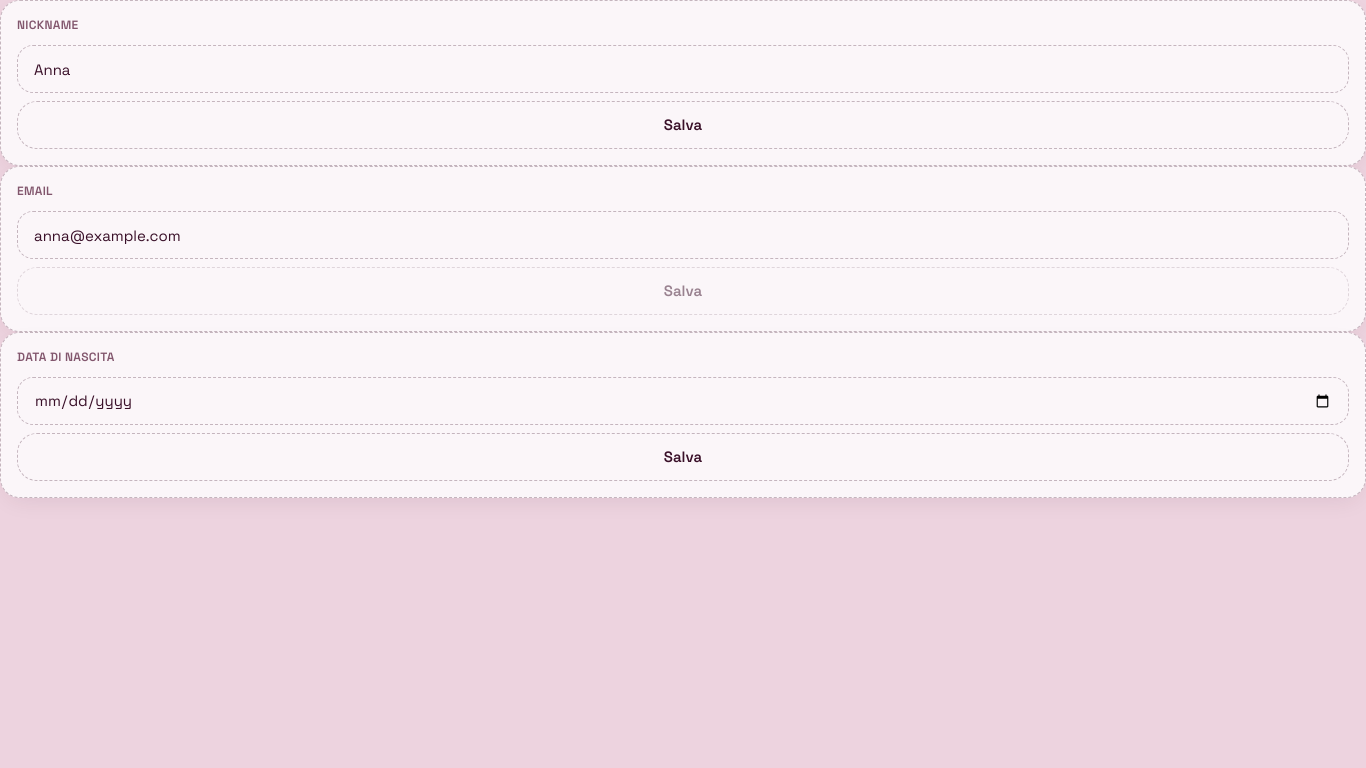
Test: ProfileEditForm › submit dell'email chiama updateEmail, NON fa router.refresh(), e mostra il messaggio di conferma
This screenshot has width=1366, height=768.
Replace the text in the field named "Email" with "nuova@example.com": (683, 235) [17,211,1349,259]
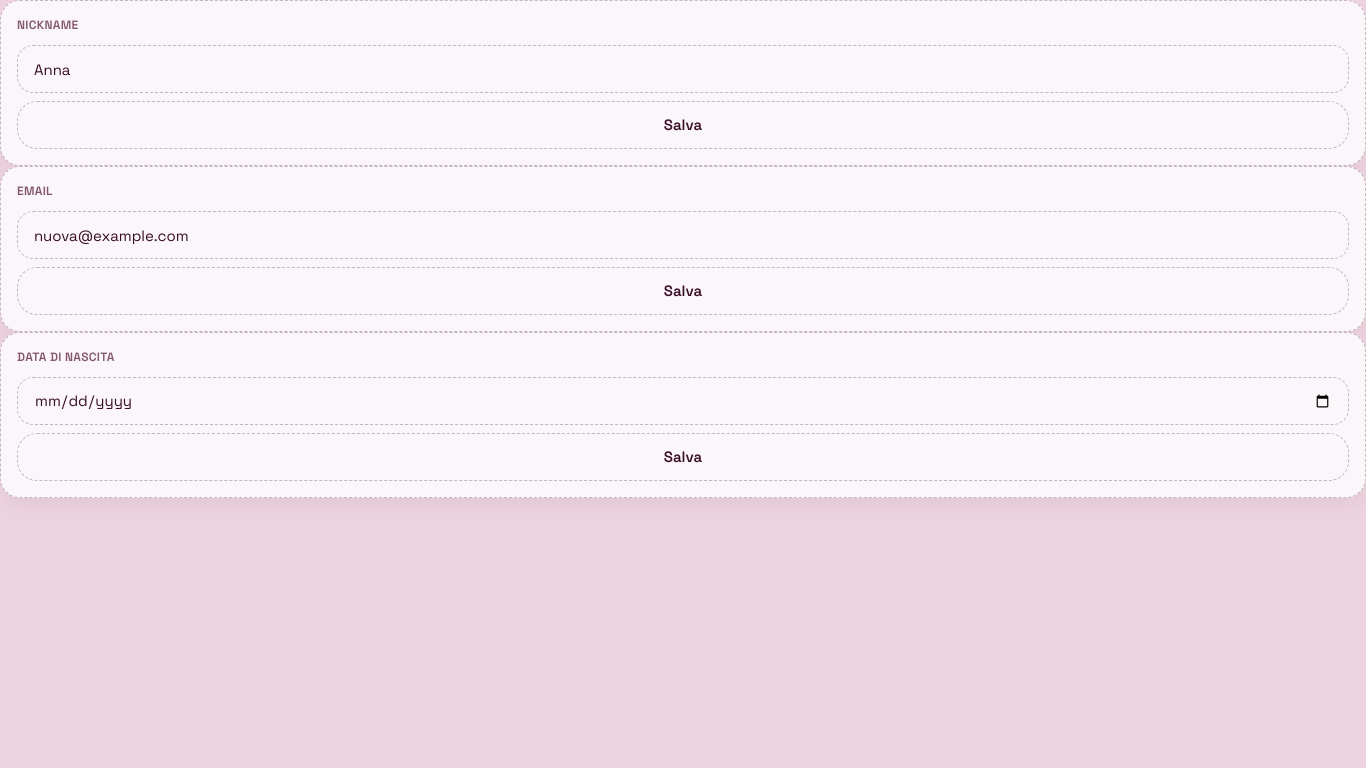
Click the button "Salva" below "Email": (683, 291) [17,267,1349,315]
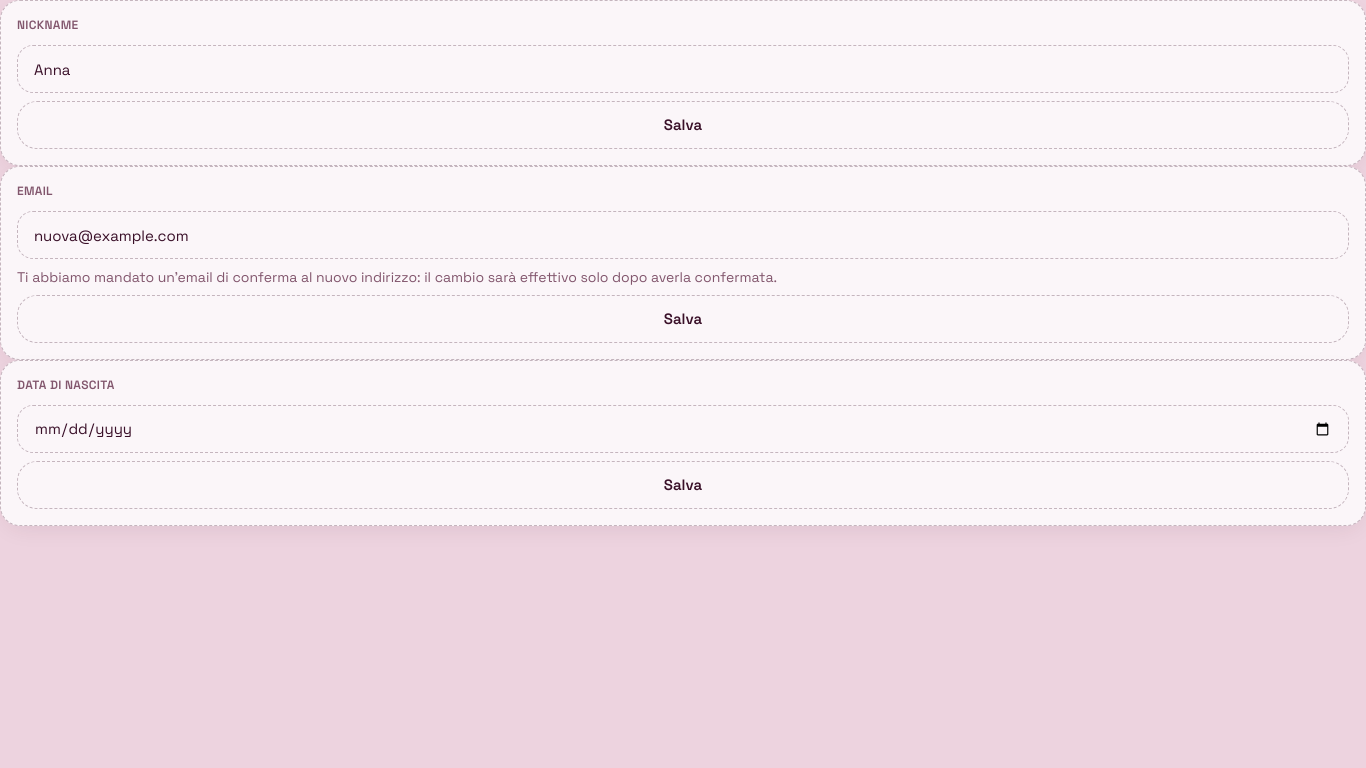
Result: the text "email di conferma al nuovo indirizzo" is shown at [17,268,777,286]
